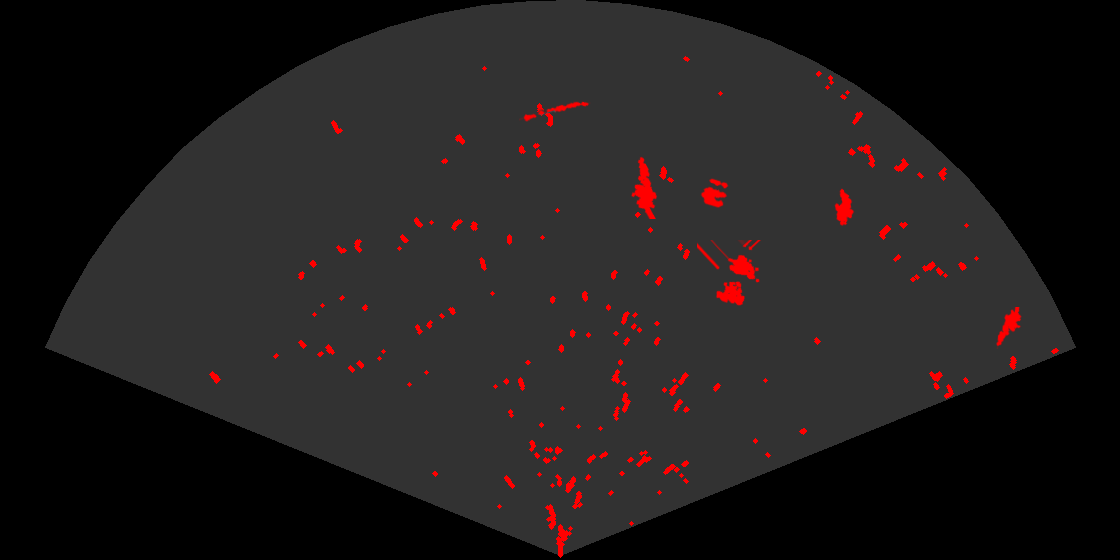AUV: (833, 187, 856, 228)
ball: (699, 177, 730, 209)
cage: (697, 240, 763, 307)
chain: (519, 100, 591, 123)
frogman: (630, 155, 659, 219), (995, 307, 1023, 349)
